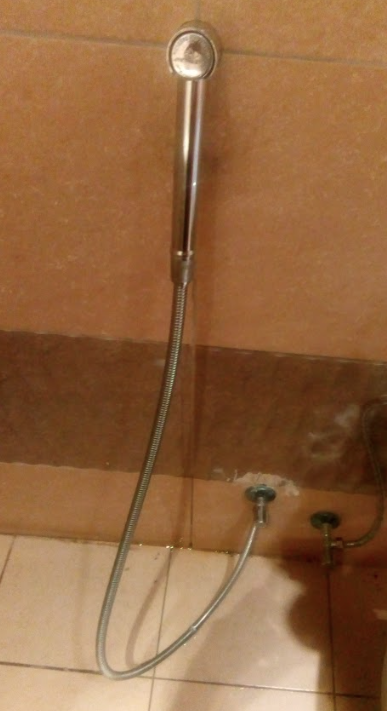Toilet: (83, 17, 349, 693)
